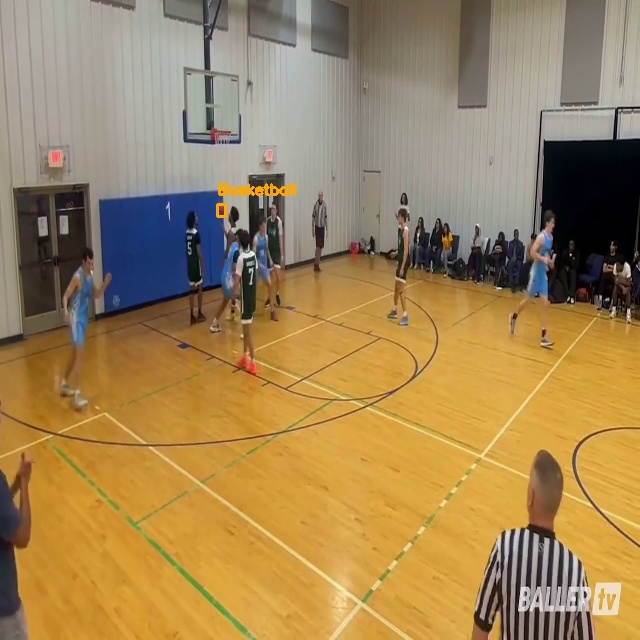Basketball: (217, 204, 225, 216)
